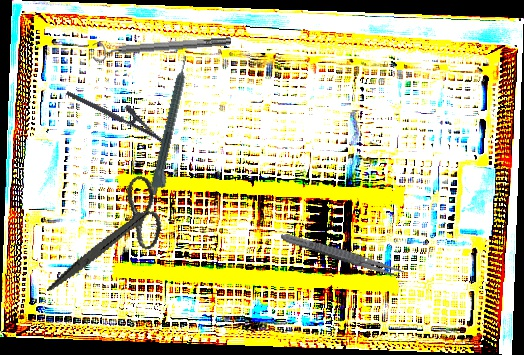Dressing Forceps: (278, 230, 409, 281)
Fixation Ring: (91, 31, 232, 63)
Handpiece: (148, 54, 197, 198)
Iris Scissors: (46, 159, 175, 318)
Needle Holder: (65, 77, 172, 145)
